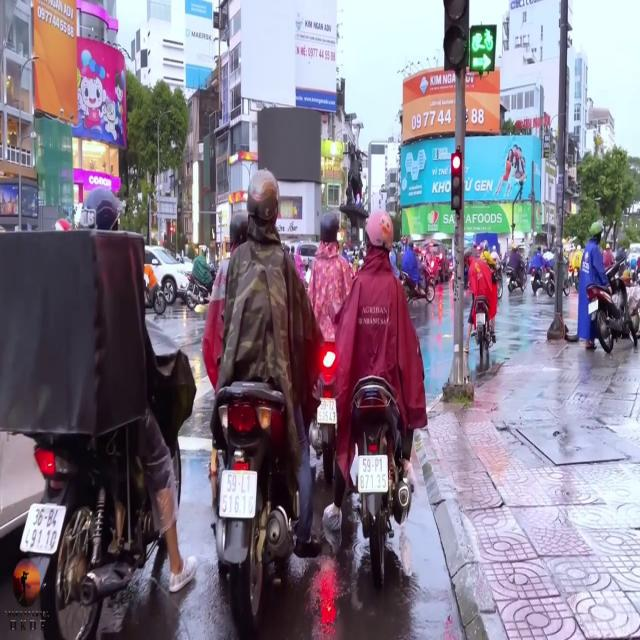bien_trang: (19, 504, 62, 552), (218, 472, 258, 520), (356, 454, 388, 489), (316, 395, 340, 427)
